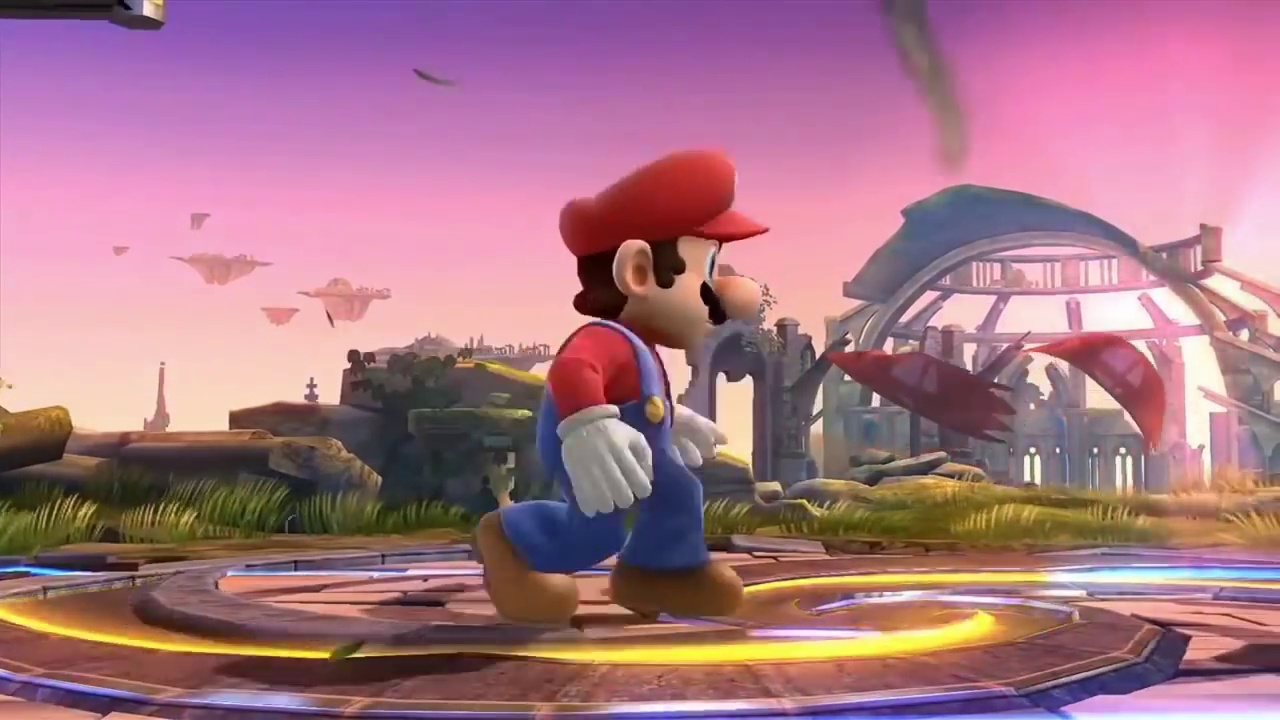Mario: (477, 153, 772, 624)
